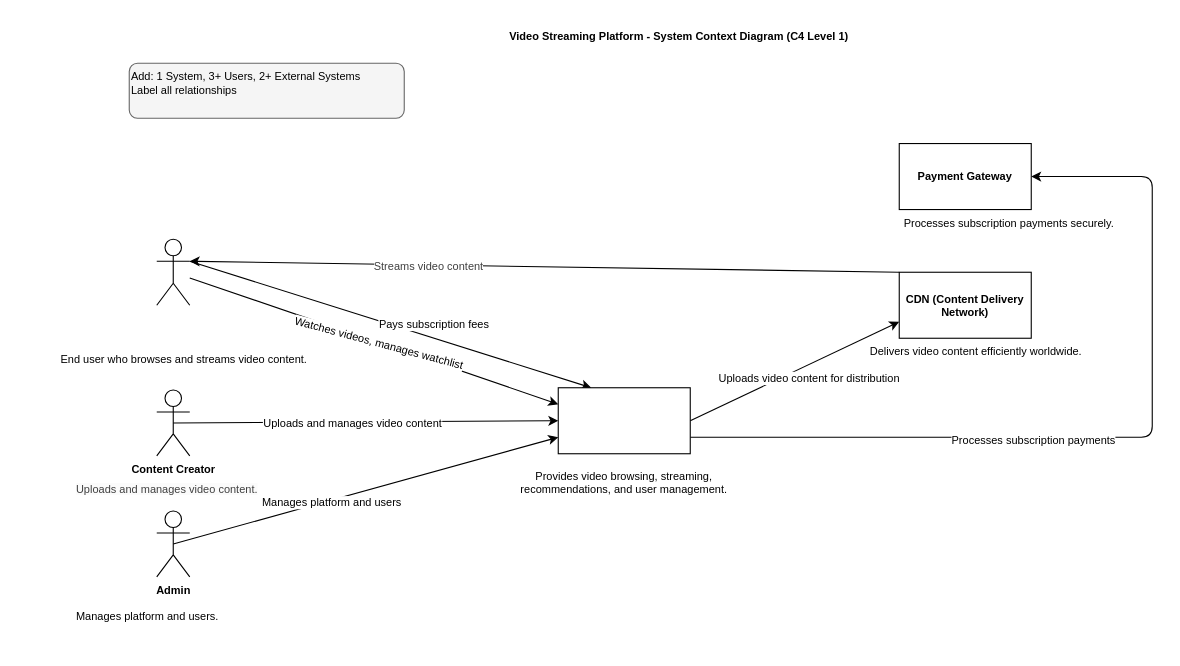
Image size: 1180x666. Some labels were removed from this diagram. Each missing label, with the box of its shape:
Subscriber: (156, 238, 190, 305)
Video Streaming Platform: (557, 387, 690, 454)
